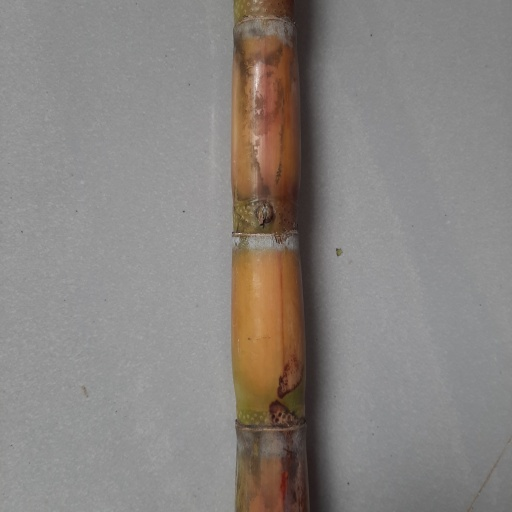Bud: (254, 200, 277, 228)
